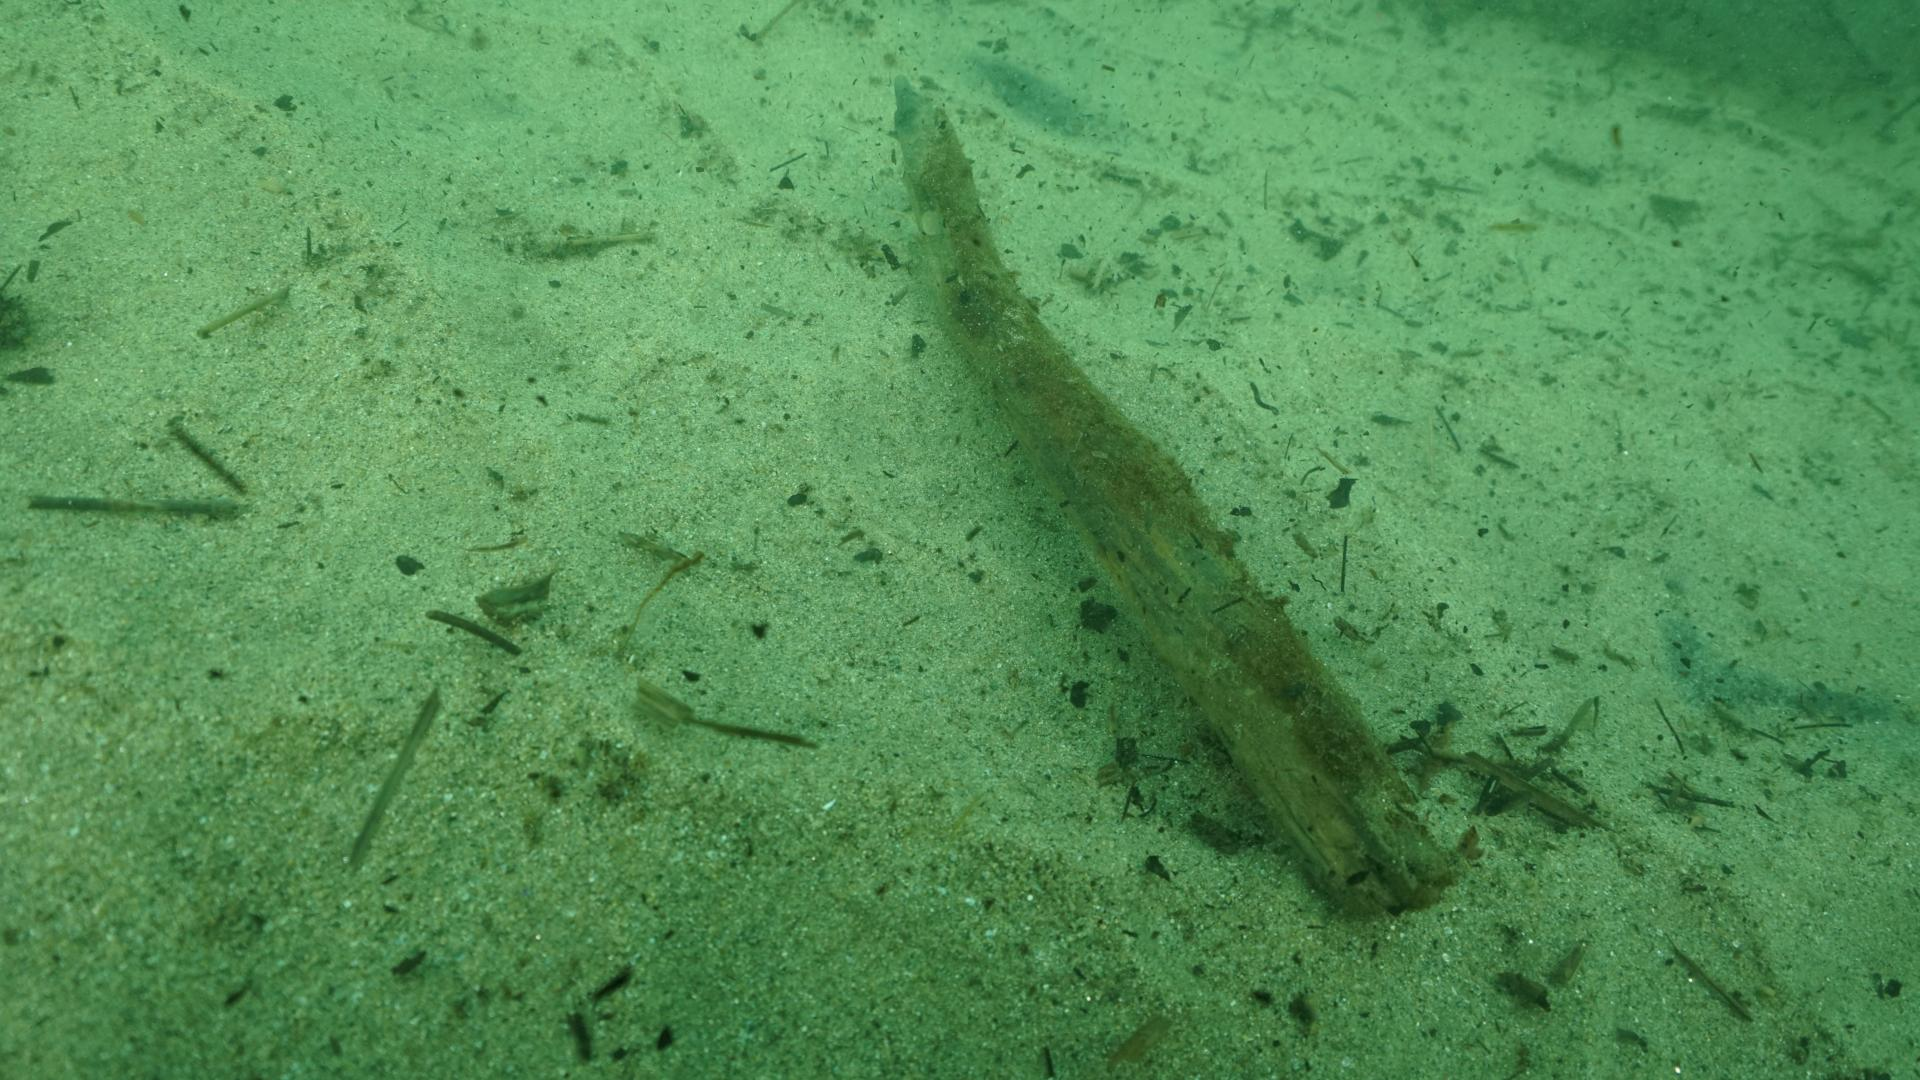wood: (914, 92, 1484, 910)
